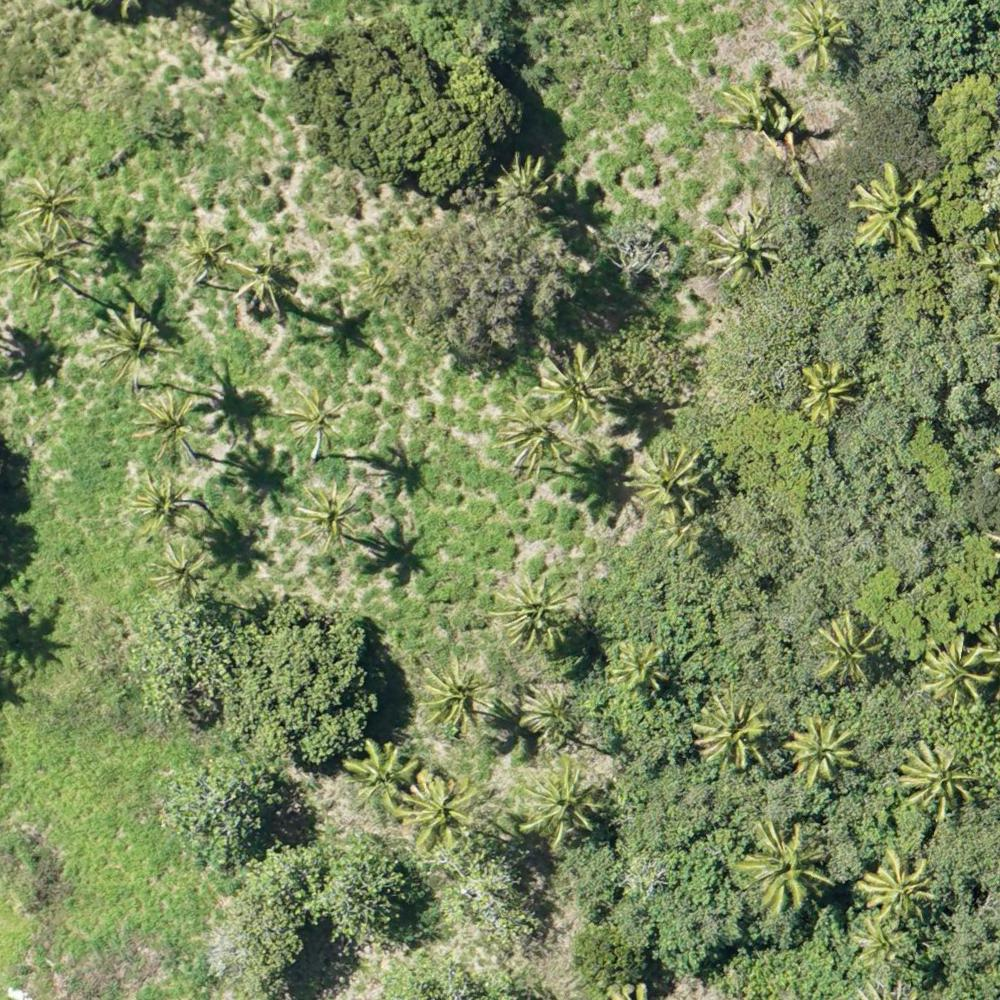Palm: (739, 819, 831, 910), (91, 305, 182, 385), (851, 164, 930, 254), (534, 343, 616, 429), (491, 576, 580, 655), (628, 443, 716, 522), (400, 773, 486, 852), (521, 767, 606, 844), (338, 736, 418, 816), (859, 848, 942, 924), (898, 741, 980, 816), (8, 223, 86, 301), (783, 2, 864, 75), (811, 613, 892, 684), (292, 482, 368, 557), (9, 169, 88, 239), (693, 691, 773, 760), (921, 641, 1000, 710), (703, 214, 781, 283), (784, 718, 858, 789), (496, 405, 569, 476), (420, 660, 493, 730), (132, 392, 203, 463), (224, 5, 301, 67), (126, 472, 196, 540), (232, 248, 302, 316), (517, 680, 587, 742), (796, 363, 864, 424), (148, 545, 213, 607), (283, 392, 346, 451), (607, 645, 671, 698), (179, 228, 232, 286), (853, 918, 907, 968)
